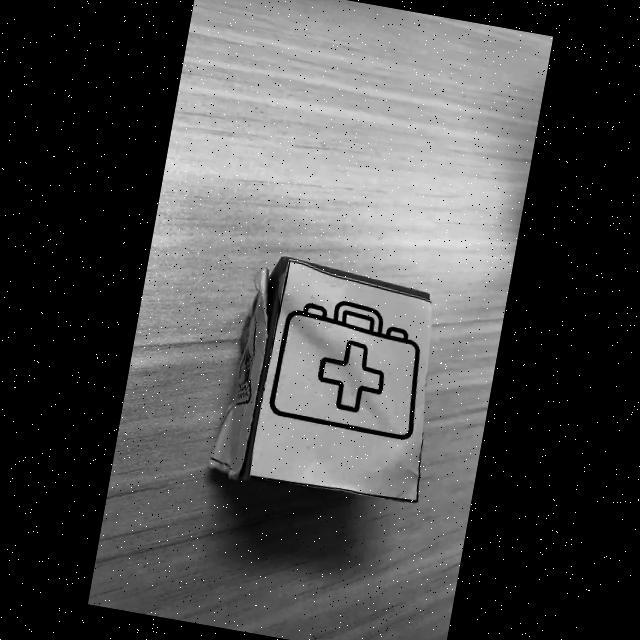Medkit: (270, 301, 419, 439)
